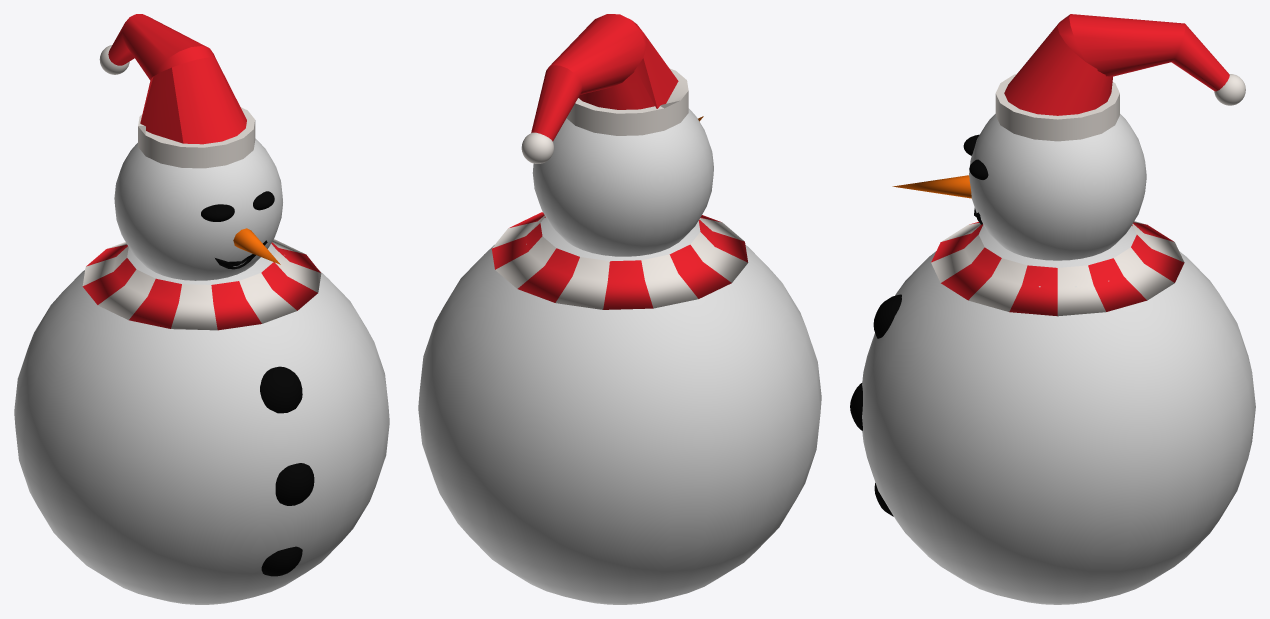
File: snowman.glb
3 renders of one model, left to right at view 1: azimuth 30°, elevation 25°; view 2: azimuth 150°, elevation 25°; view 3: azimuth 270°, elevation 25°, orthographic. The views are drawn at different scales.
Visible parts, largest first — view 1: Esfera, Esfera.001, Círculo.001, Círculo.002, Esfera.003, Esfera.002, Esfera.004, Cono; view 2: Esfera, Esfera.001, Círculo.001, Círculo.002; view 3: Esfera, Esfera.001, Círculo.001, Círculo.002, Cono, Esfera.003.
Part boxes in pixels (left/top/right/bottom): Esfera: left=14, top=244, right=389, bottom=604; Esfera.001: left=114, top=138, right=282, bottom=280; Círculo.001: left=99, top=14, right=255, bottom=168; Círculo.002: left=82, top=239, right=321, bottom=330; Esfera.003: left=260, top=366, right=302, bottom=413; Esfera.002: left=275, top=463, right=314, bottom=505; Esfera.004: left=261, top=546, right=302, bottom=576; Cono: left=233, top=228, right=280, bottom=264; Esfera: left=418, top=217, right=821, bottom=604; Esfera.001: left=532, top=108, right=713, bottom=256; Círculo.001: left=521, top=14, right=688, bottom=163; Círculo.002: left=492, top=212, right=748, bottom=309; Esfera: left=862, top=225, right=1255, bottom=604; Esfera.001: left=969, top=114, right=1146, bottom=260; Círculo.001: left=995, top=14, right=1245, bottom=141; Círculo.002: left=931, top=221, right=1184, bottom=316; Cono: left=892, top=175, right=971, bottom=198; Esfera.003: left=873, top=294, right=901, bottom=338.
Size of what is drawn, in the model's own units: 2 by 3.15 by 2.05.
